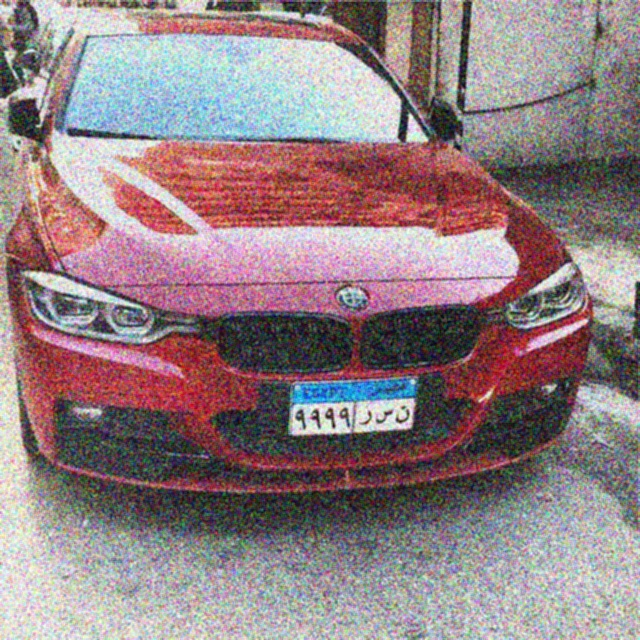License Plate: (287, 374, 419, 439)
